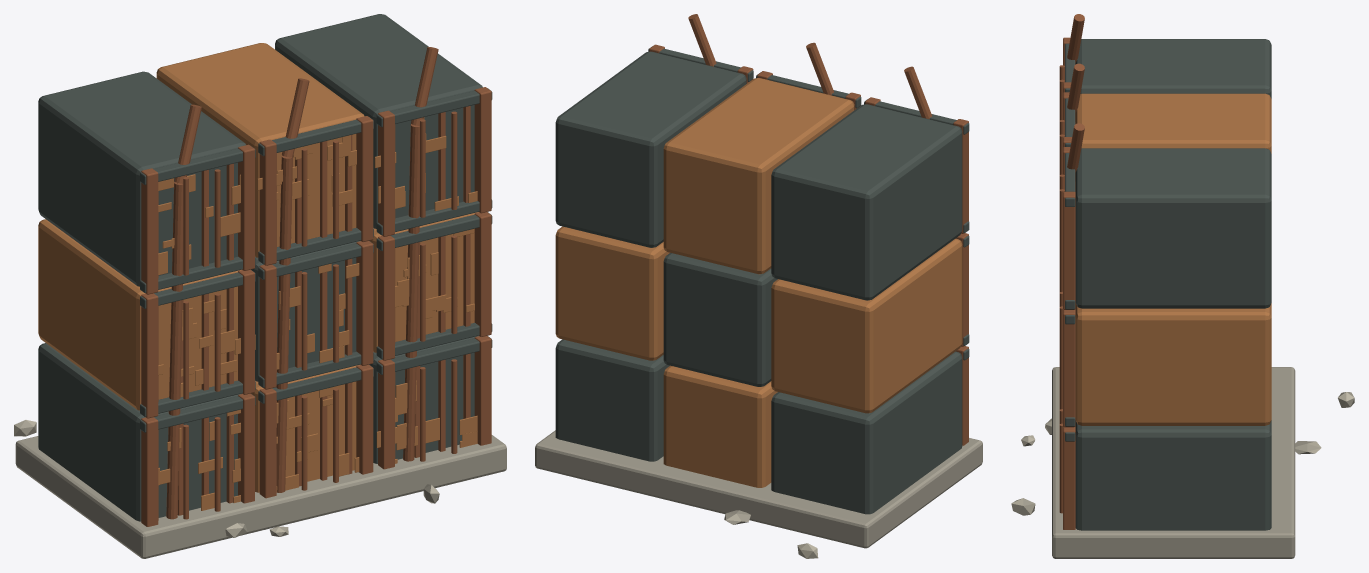
File: Wall_Compacted_Scrap.glb
The picture shows the model from 3 angles, left to right: view 1: azimuth 30°, elevation 25°; view 2: azimuth 150°, elevation 25°; view 3: azimuth 270°, elevation 25°; orthographic projection. The views are drawn at different scales.
Parts seen in each view (by area): view 1: Structure; view 2: Structure; view 3: Structure.
Boxes of the visible parts, left/top/right/bottom form: Structure: left=14, top=14, right=506, bottom=558; Structure: left=535, top=14, right=982, bottom=558; Structure: left=1011, top=14, right=1354, bottom=558.
Size of the model in its own units: 5.1 by 5.83 by 4.38.
